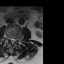CCS_normal: (11, 37, 13, 46)
LFS_stenosis: (15, 37, 17, 42)
LLS_normal: (13, 37, 15, 43)
RFS_stenosis: (8, 36, 10, 41)
RLS_normal: (10, 36, 11, 43)
